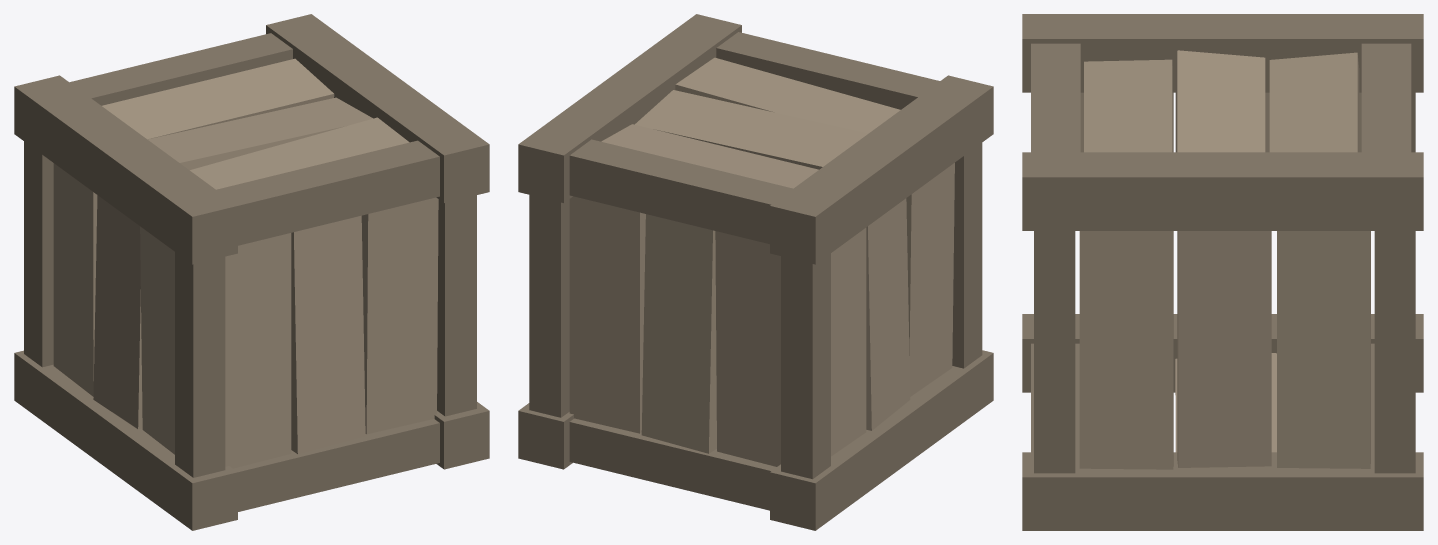
File: box_wooden_2.fbx
3 renders of one model, left to right at view 1: azimuth 30°, elevation 25°; view 2: azimuth 150°, elevation 25°; view 3: azimuth 270°, elevation 25°, orthographic. The views are drawn at different scales.
Visible parts, largest first — view 1: box_wooden_2; view 2: box_wooden_2; view 3: box_wooden_2.
Part boxes in pixels (bbox=[...]): box_wooden_2: bbox=[14, 14, 489, 530]; box_wooden_2: bbox=[518, 14, 993, 530]; box_wooden_2: bbox=[1022, 14, 1423, 530].
Size of the model in its own units: 117 by 119 by 122.
